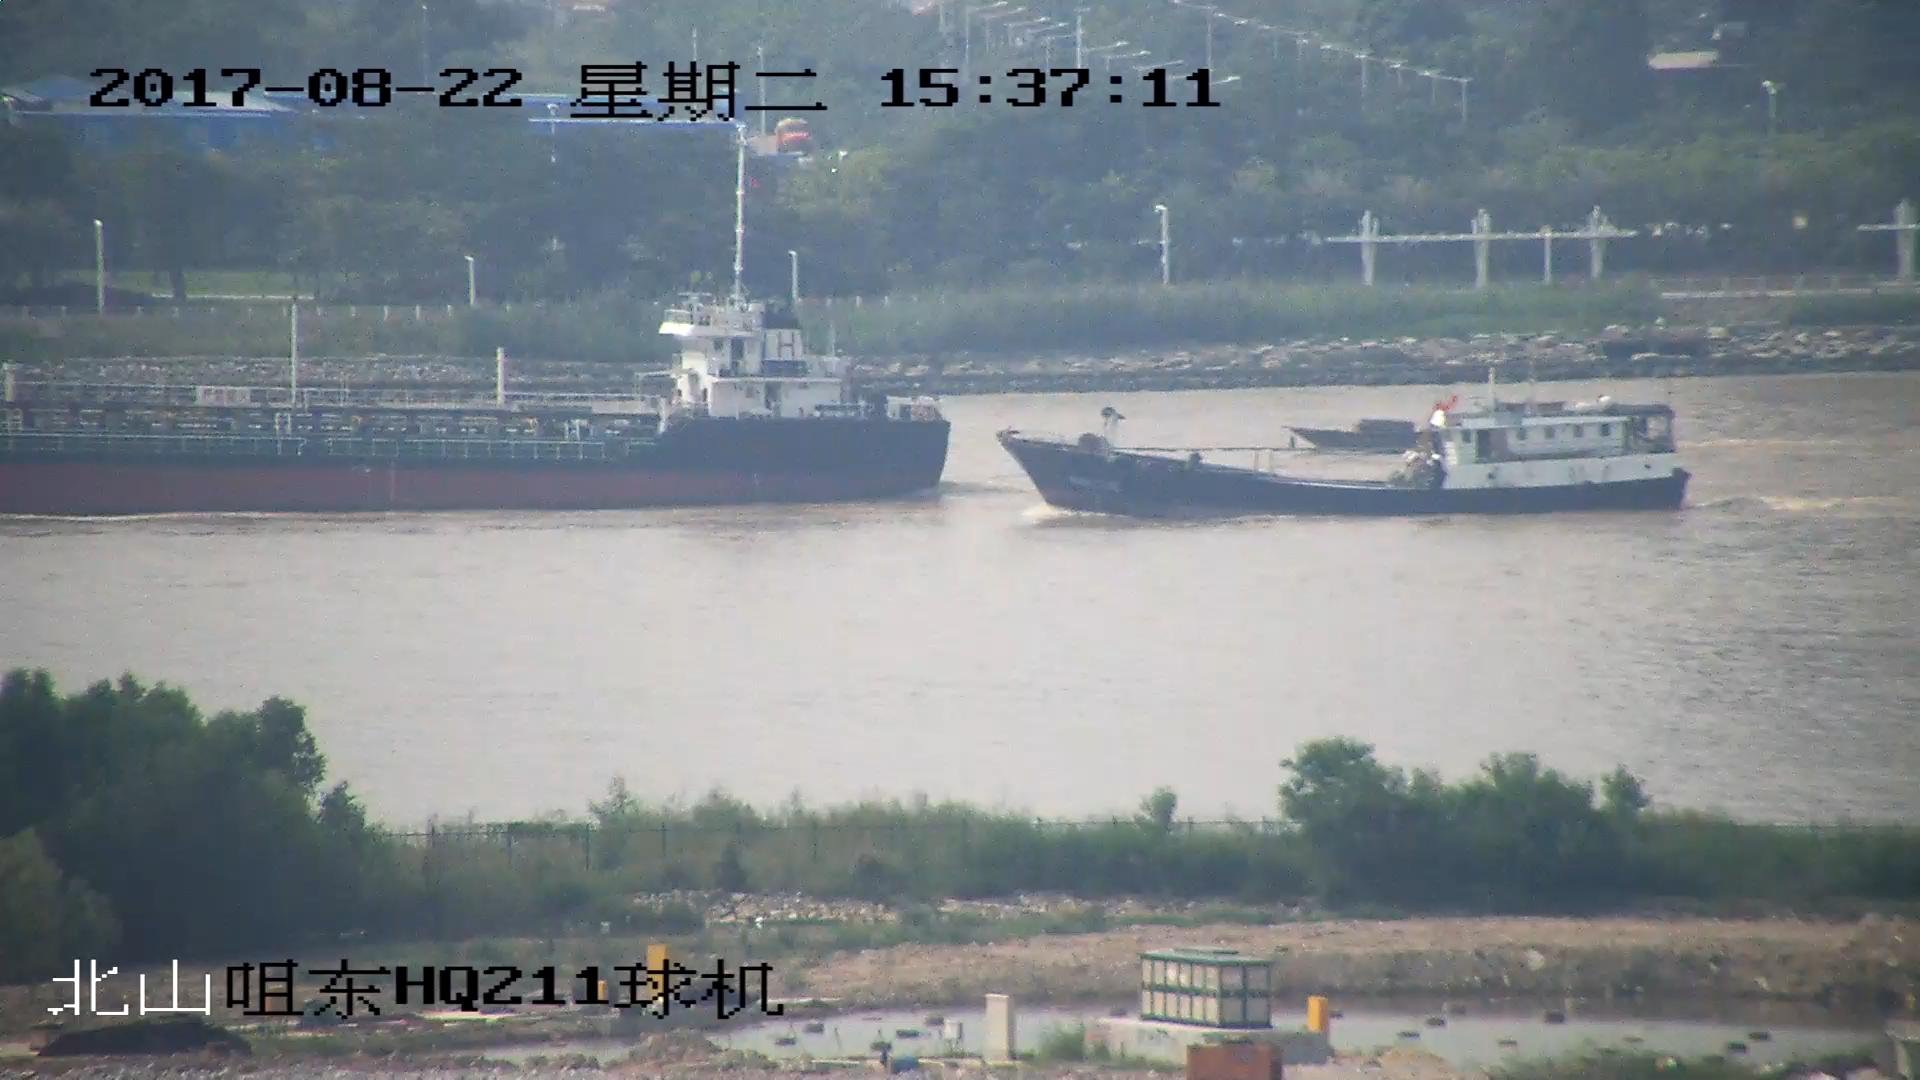fishing boat: (999, 386, 1693, 525), (1289, 412, 1410, 448)
general cargo ship: (1, 125, 950, 514)
